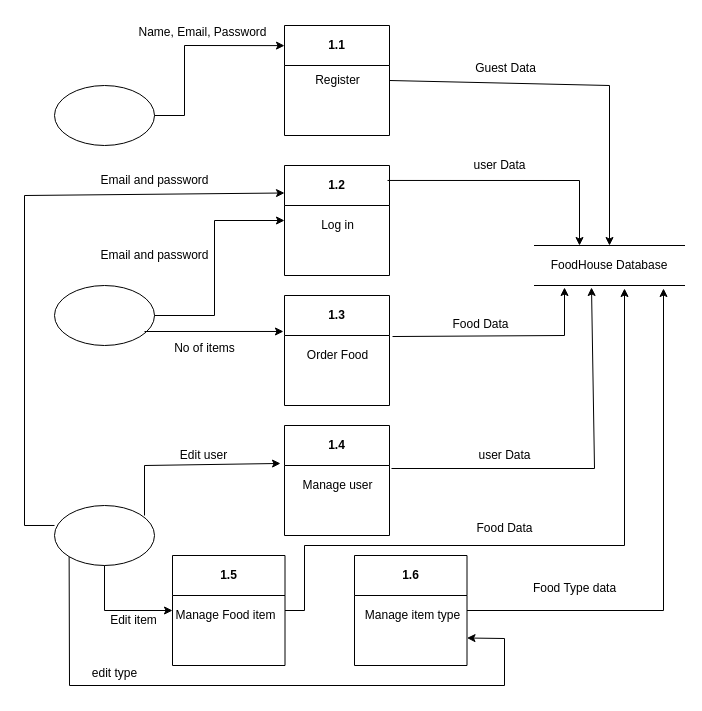
The diagram is 702 pixels wide and 711 high, and some of its shapes have lost their labels. The box of each missing label's shape, as (x1, y1, x2, y2) in pixels:
Admin: (54, 504, 154, 566)
Guest: (54, 84, 154, 146)
User: (54, 284, 154, 346)
